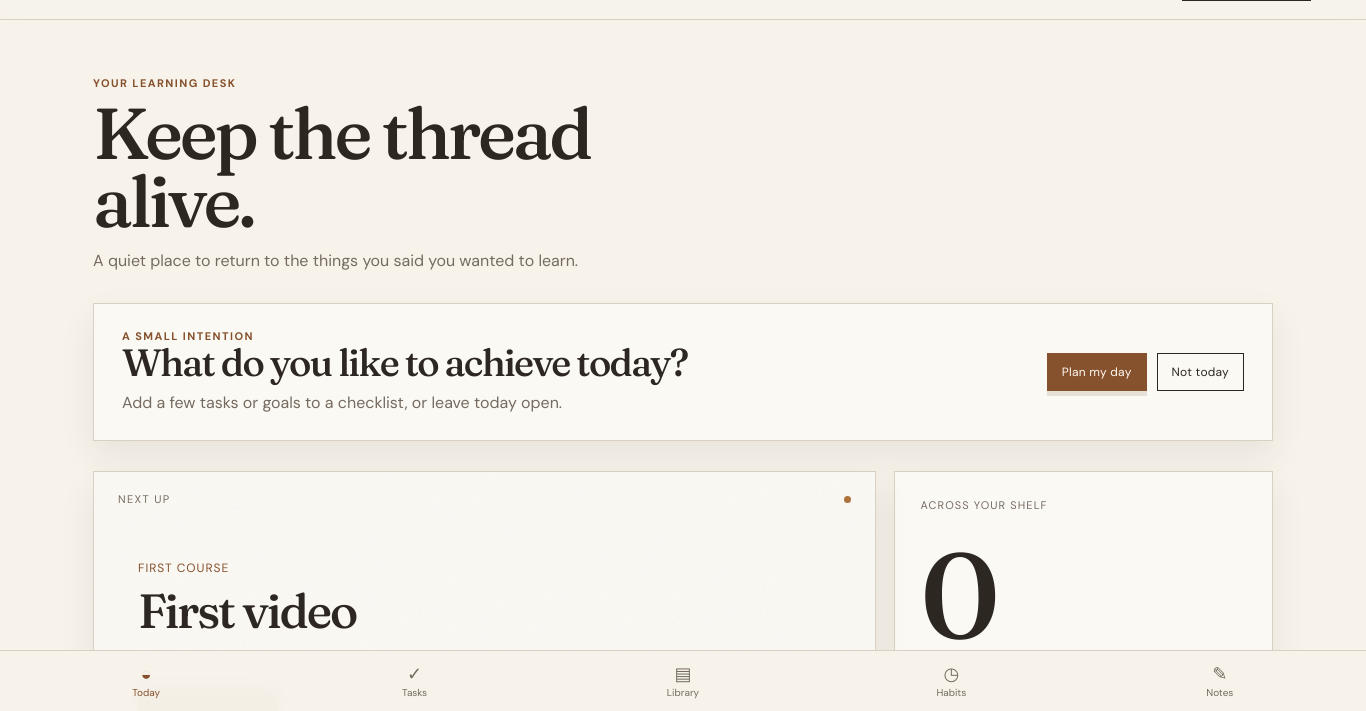
Scenario: group containers › supports playlist grouping and opens notes directly without navigating to detail
Step 1. Click the button "▤ Library" → point(683, 681), box [549, 660, 817, 702]
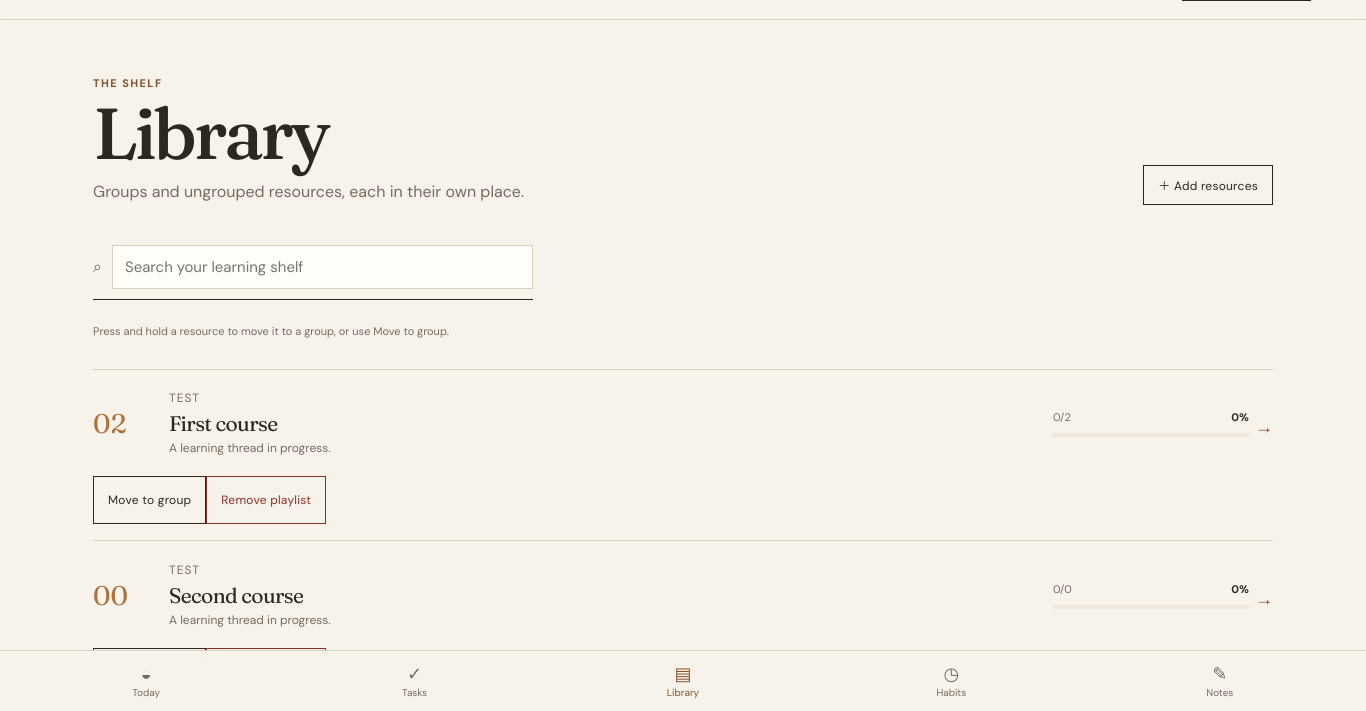
Step 2. Right-click the button "02 Test First course A learning thread in progress. 0/2 0% →" → point(110, 423), box [93, 370, 1273, 476]
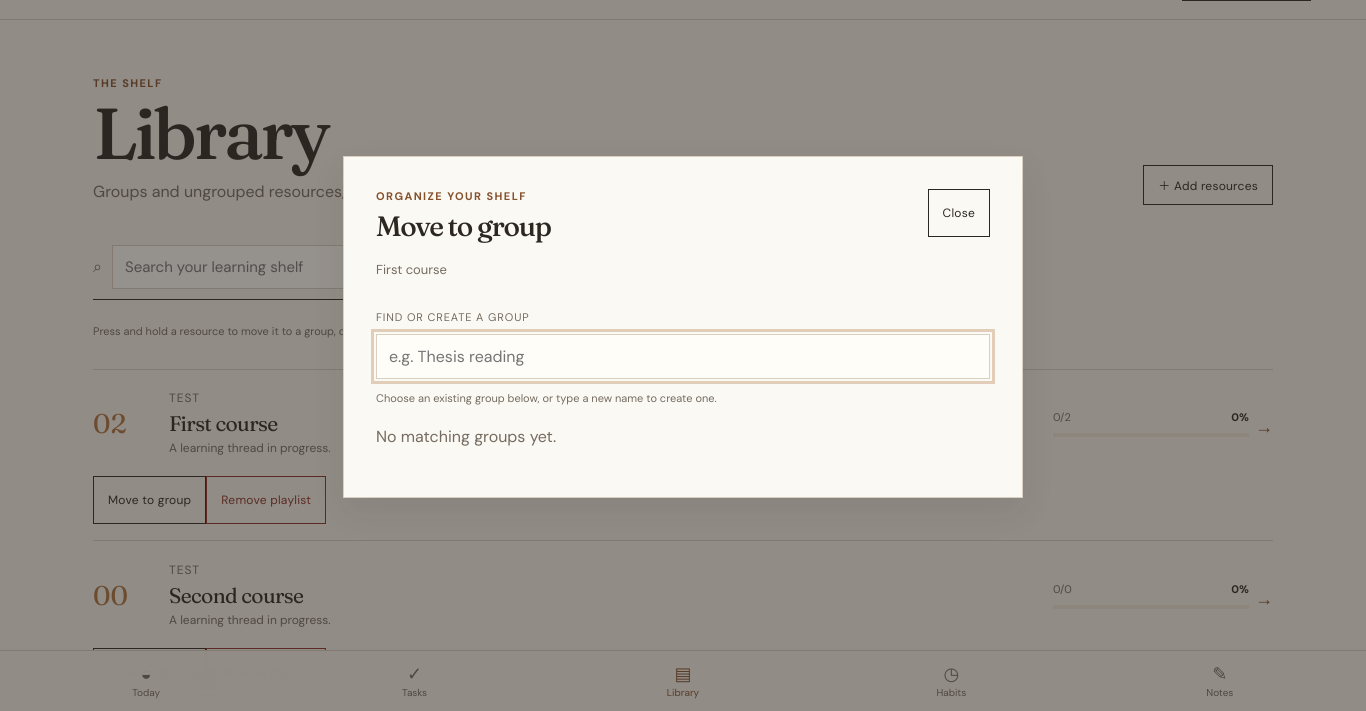
Step 3. Type "Courses" into the field labelled "Find or create a group" → point(683, 357), box [376, 334, 990, 379]
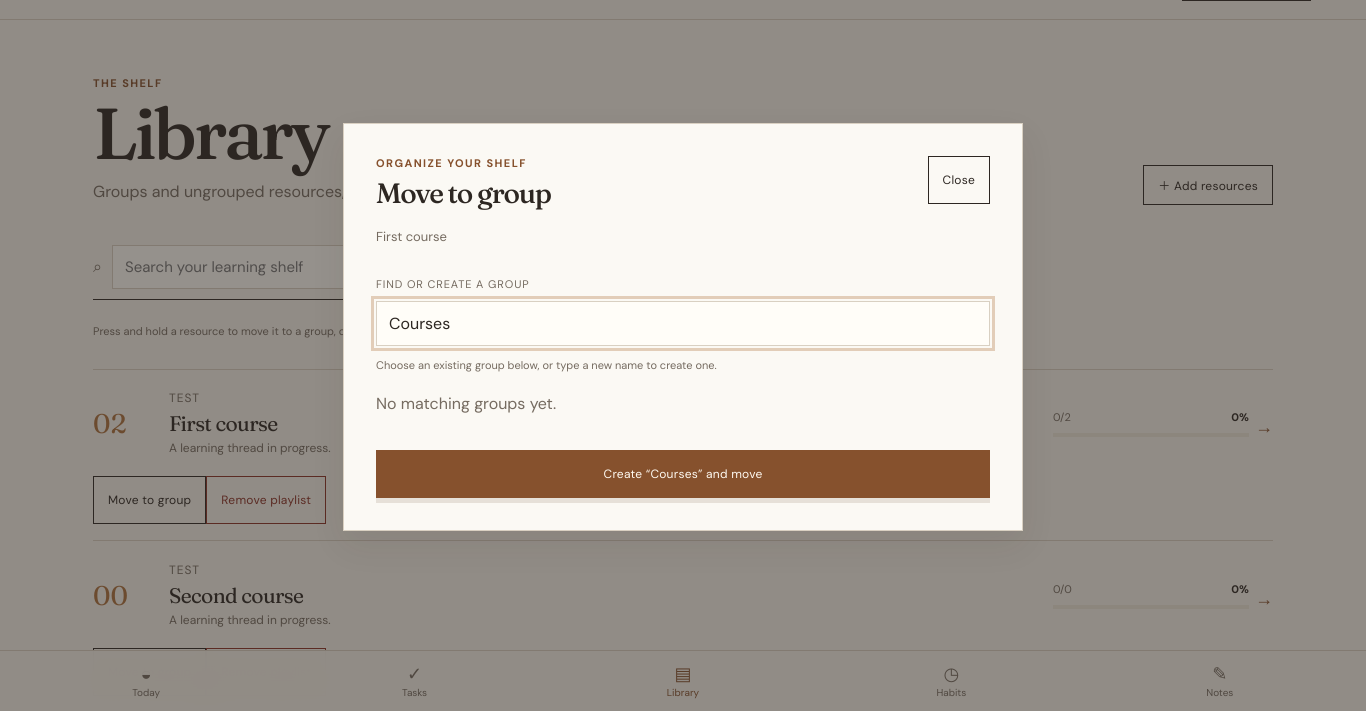
Step 4. Click the button "Create “Courses” and move" → point(683, 474), box [376, 450, 990, 498]
(page scrolled)
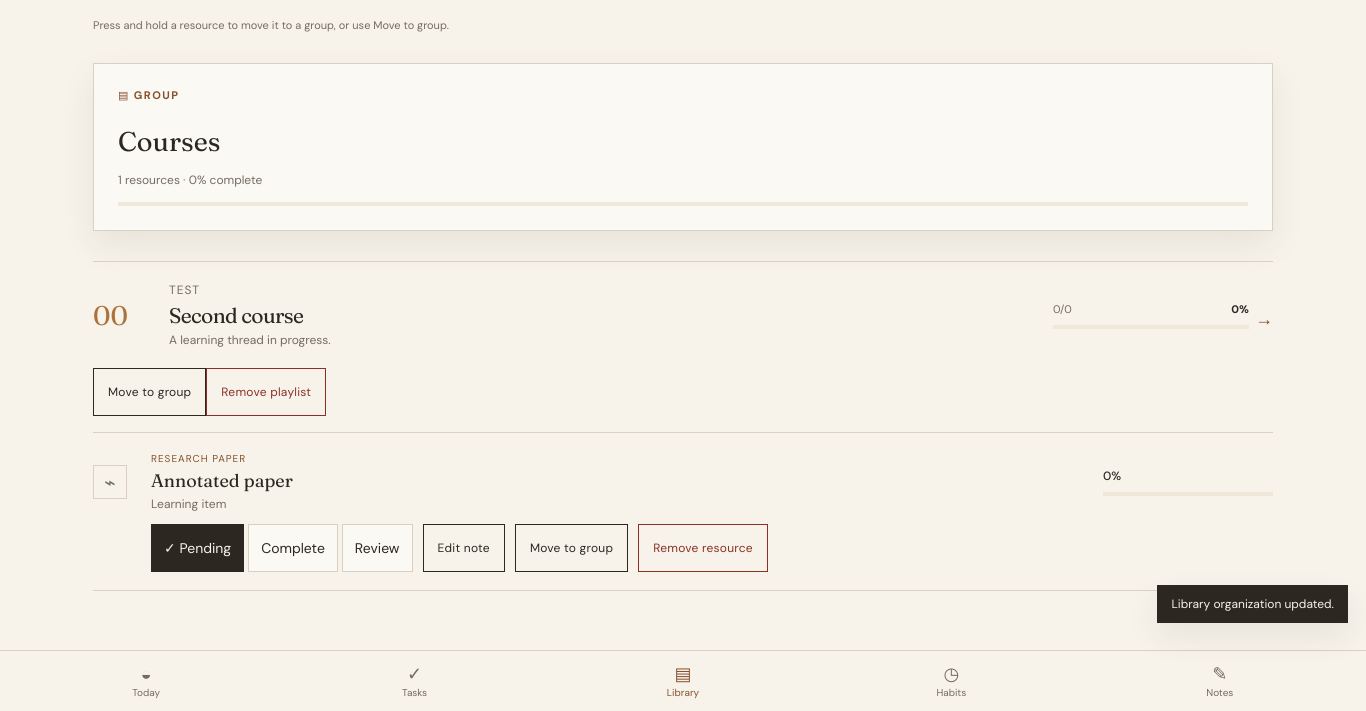
Now the dialog is gone
Now the button "First course" is gone
Now the button with aria-label "Open group Courses" is shown, box [93, 64, 1273, 232]
Step 5. Click the button "Edit note" → point(464, 548), box [422, 524, 505, 572]
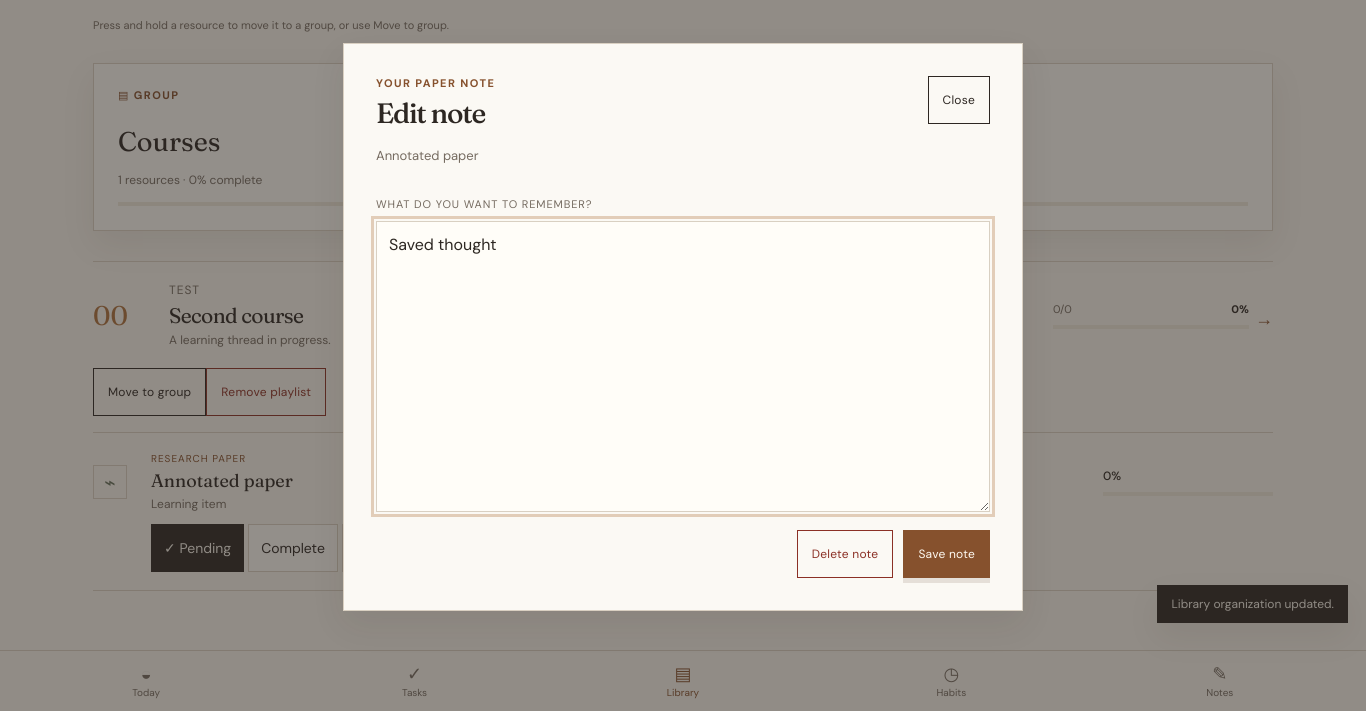
Now the dialog named "Note for Annotated paper" is shown, box [343, 43, 1023, 611]
Now the text box labelled "What do you want to remember?" holds "Saved thought", box [376, 220, 990, 512]
